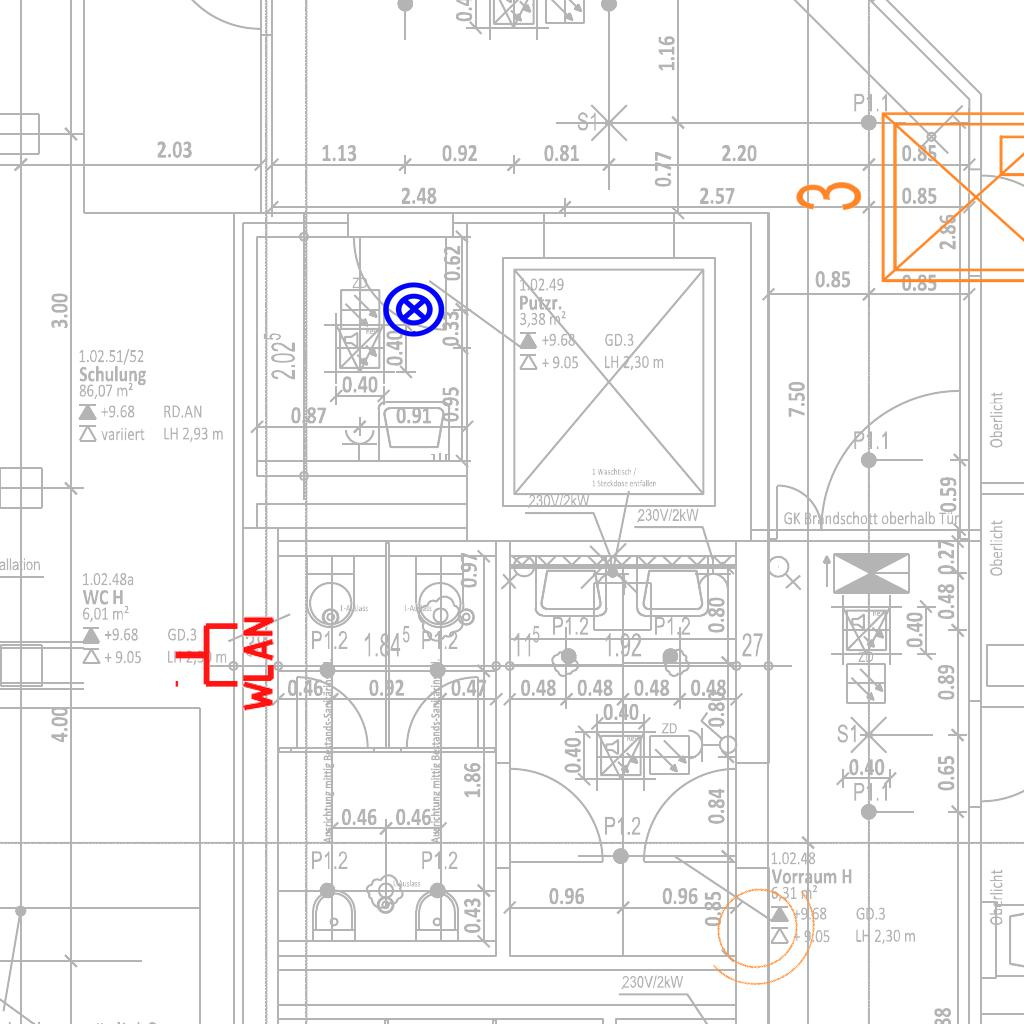Einbaudownlights_LED_Konferenzraeume: (785, 97, 1024, 305)
Scheinwerfer_fuer_Alarmbeleuchtung: (676, 844, 850, 1016)
Taster_beleuchtet: (381, 276, 447, 342)
WLAN: (171, 612, 276, 716)
